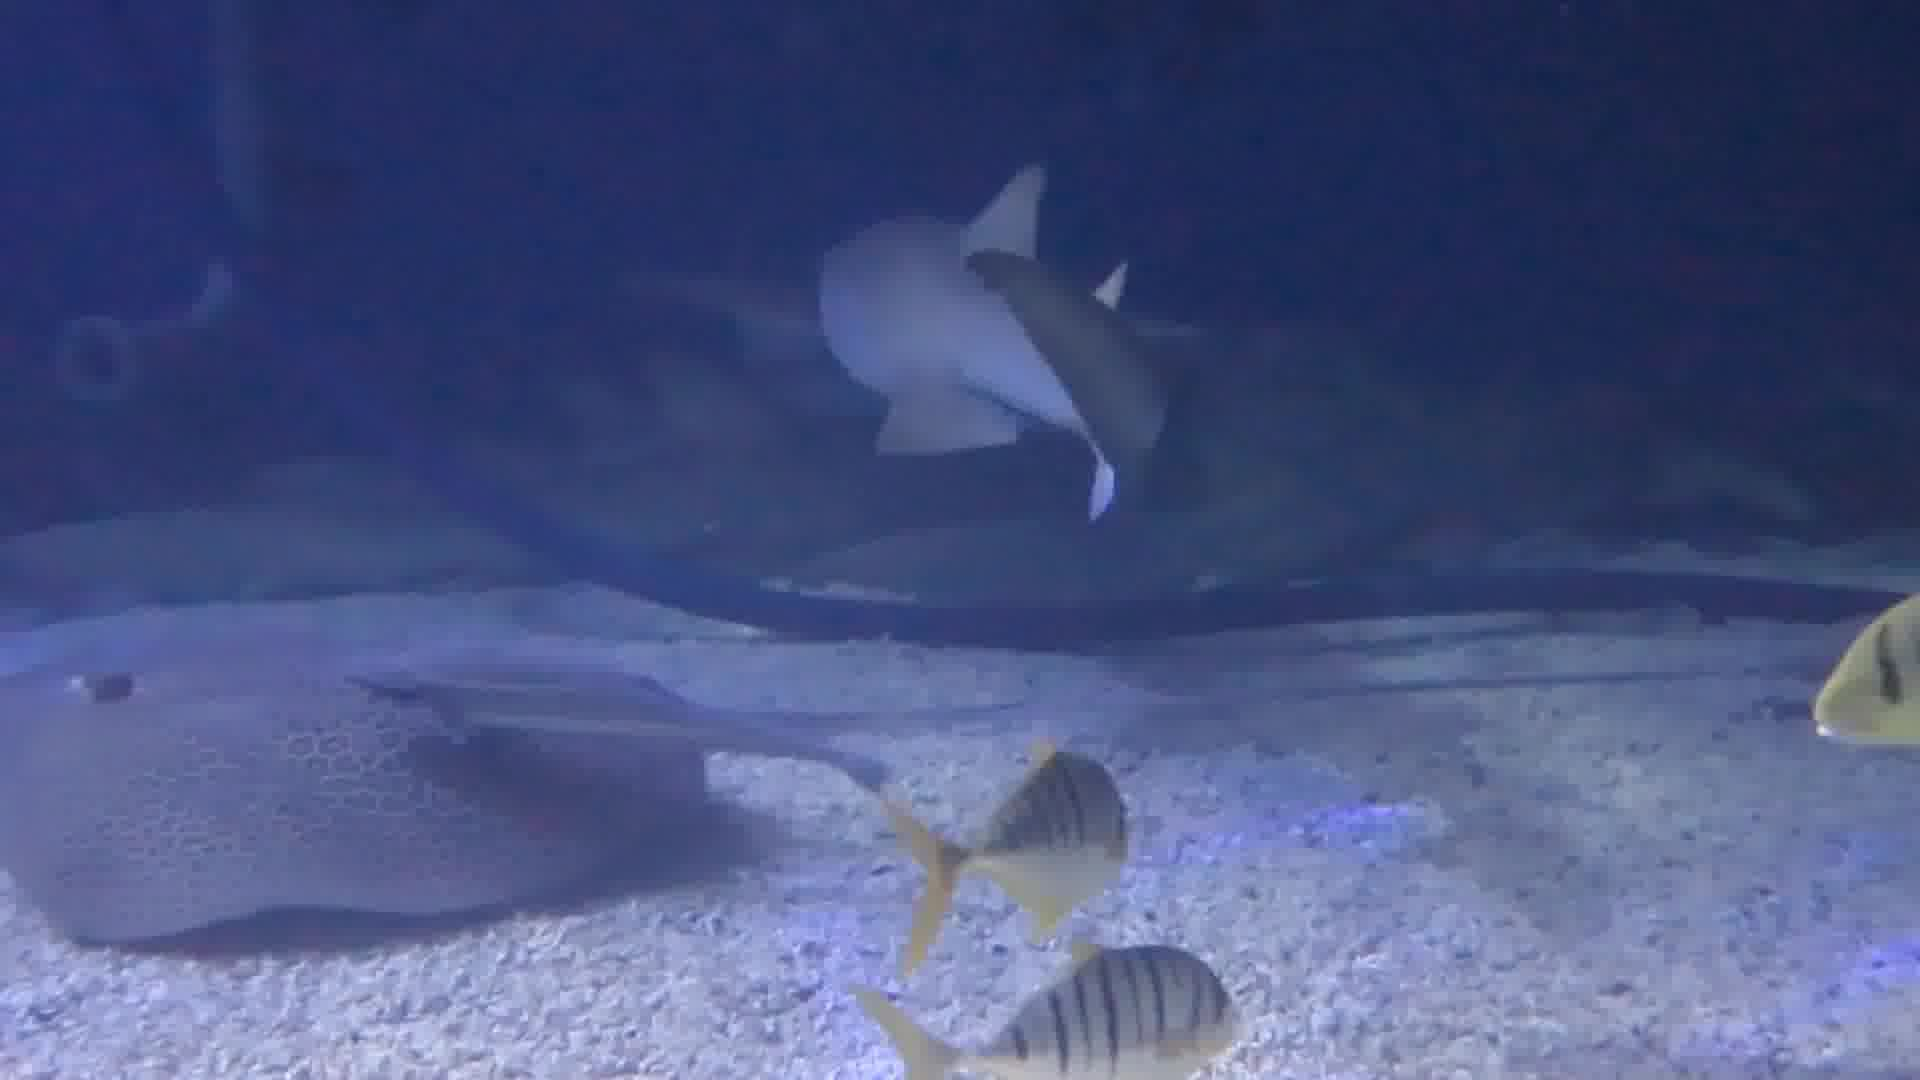Nebrius ferrugineus: (793, 183, 1160, 498)
